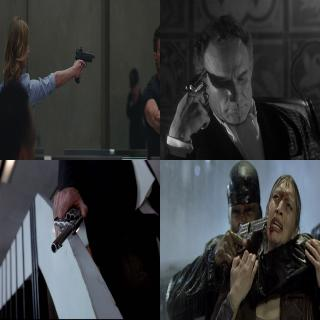gun: (218, 211, 266, 291), (49, 189, 85, 253), (182, 67, 210, 133), (73, 46, 95, 84)
